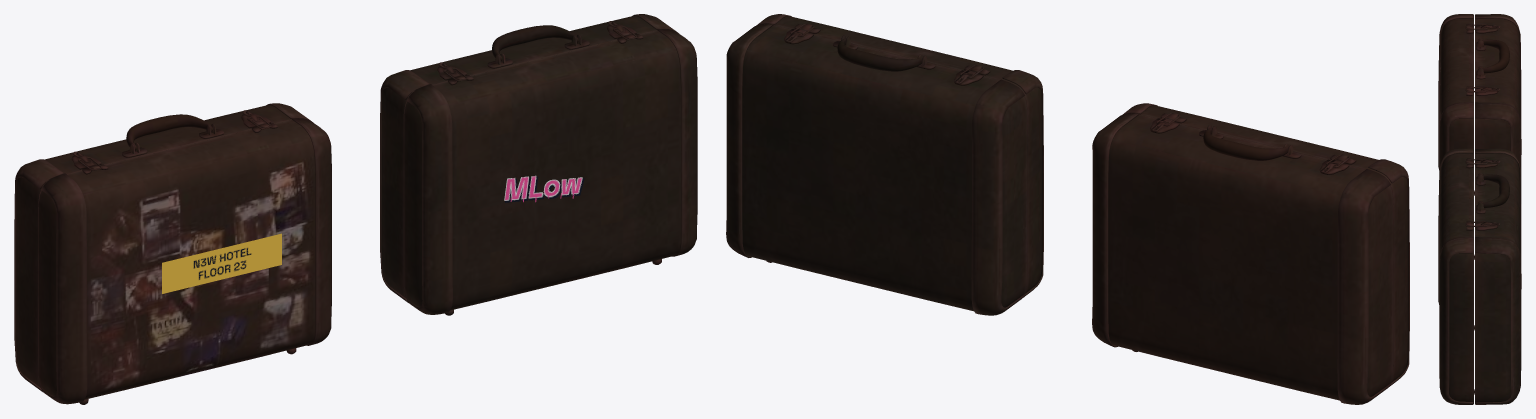
Rendered from nyb_serendipity_luggage.glb.
3 views of the same model, side by side, from view 1: azimuth 30°, elevation 25°; view 2: azimuth 150°, elevation 25°; view 3: azimuth 270°, elevation 25° (orthographic). The views are drawn at different scales.
Visible parts, largest first — view 1: vintage_suitcase_01_bottom, stk_lbl_fd97abd47a.png, stk_tag_mlow.png; view 2: vintage_suitcase_01_bottom; view 3: vintage_suitcase_01_bottom.
Boxes of the visible parts, <box> form: vintage_suitcase_01_bottom: <box>14,14,697,404</box>; stk_lbl_fd97abd47a.png: <box>162,233,281,293</box>; stk_tag_mlow.png: <box>504,175,584,202</box>; vintage_suitcase_01_bottom: <box>726,14,1409,404</box>; vintage_suitcase_01_bottom: <box>1438,14,1521,404</box>.
Size of the model in its own units: 1.61 by 0.5679 by 0.2392.
4 materials, 4 textured.
